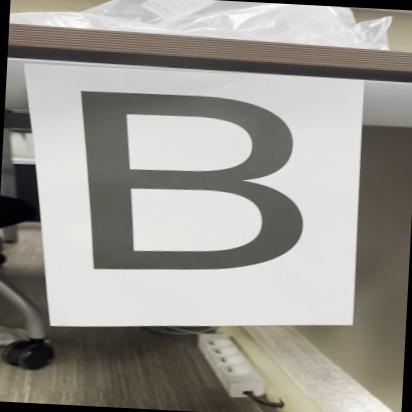seat: (51, 75, 351, 306)
